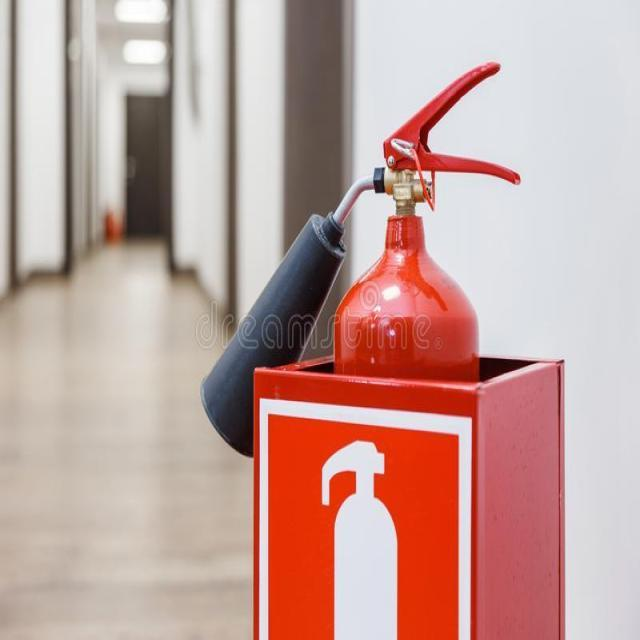fire_extinguisher: (197, 56, 525, 639)
